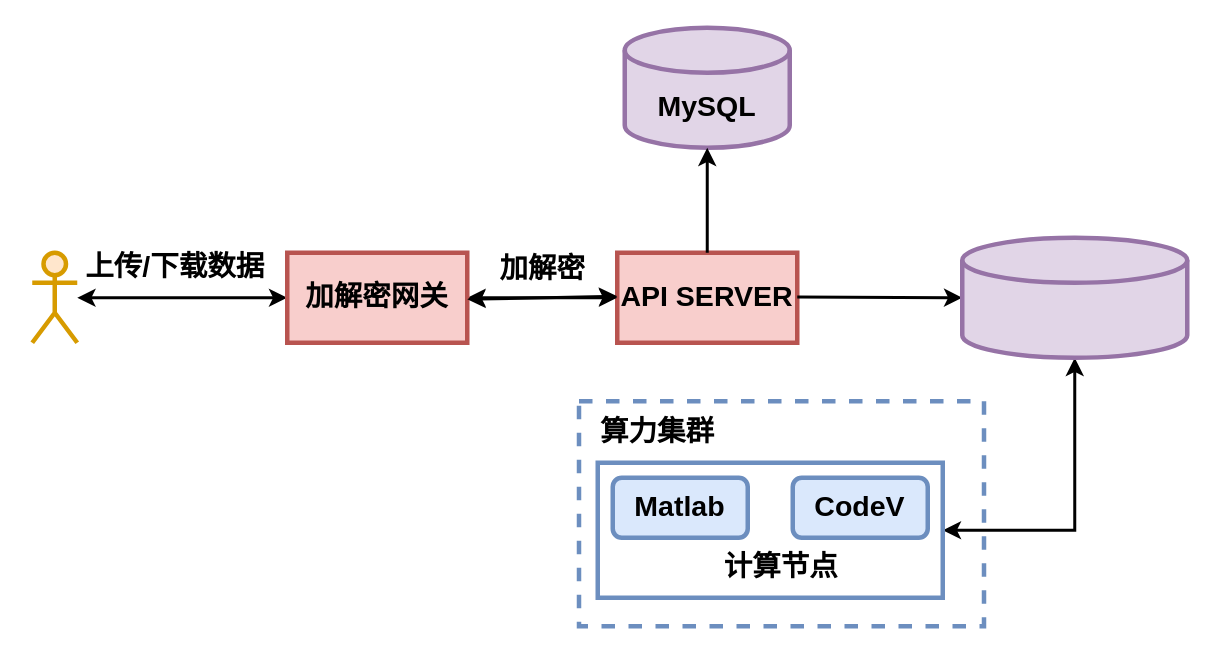
Some shapes in this 1215 by 654 pixel diagram are drawn without their labels. Here are the shapes that lost their labels. From the top down, the centre of each, then its label:
At (54,297): "研发".
At (1074,297): "文件存储服务器".
